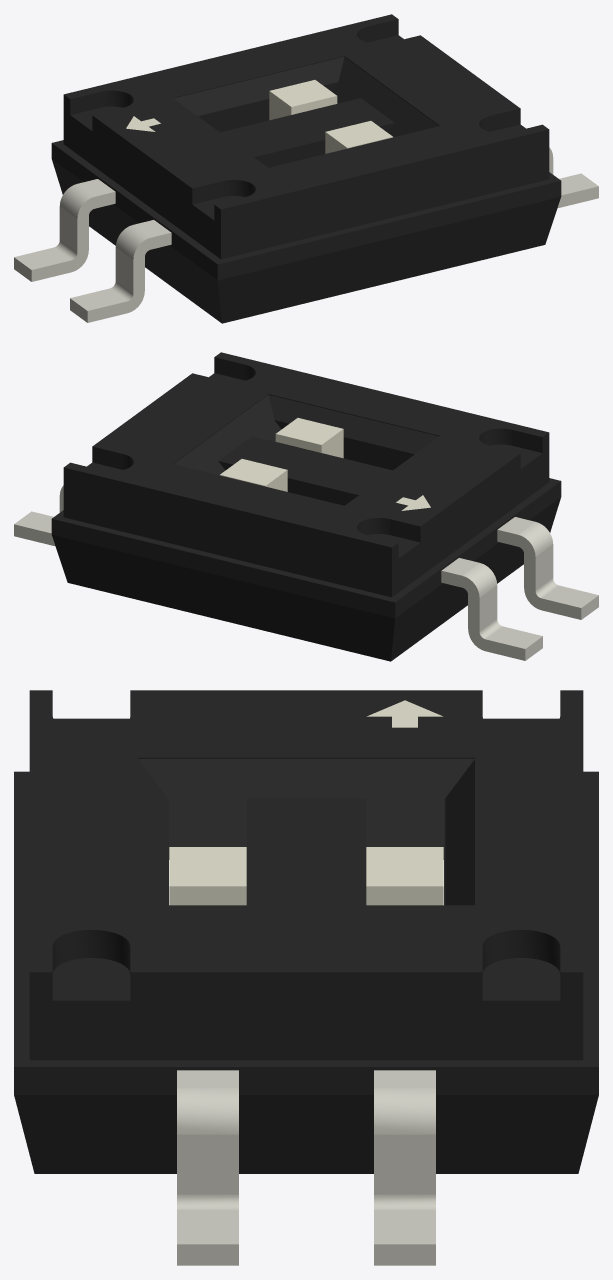
File: kc-sw_dip_spstx02_slide_omron_a6h-2101_w6.15mm_p1.27mm.glb
The picture shows the model from 3 angles, top to bottom: view 1: azimuth 30°, elevation 25°; view 2: azimuth 150°, elevation 25°; view 3: azimuth 270°, elevation 25°; orthographic projection. The views are drawn at different scales.
Visible parts, largest first — view 1: 0_0_0_0, 0.6666666666666666_0.6666666666666666_0.5833333333333334_0.8, 0.75_0.75_0.6666666666666666_0; view 2: 0_0_0_0, 0.6666666666666666_0.6666666666666666_0.5833333333333334_0.8, 0.75_0.75_0.6666666666666666_0; view 3: 0_0_0_0, 0.6666666666666666_0.6666666666666666_0.5833333333333334_0.8, 0.75_0.75_0.6666666666666666_0.
Boxes of the visible parts, x1,y1,x2,y2 form: 0_0_0_0: (51, 14, 561, 323); 0.6666666666666666_0.6666666666666666_0.5833333333333334_0.8: (14, 147, 598, 322); 0.75_0.75_0.6666666666666666_0: (126, 80, 392, 153); 0_0_0_0: (51, 352, 561, 661); 0.6666666666666666_0.6666666666666666_0.5833333333333334_0.8: (14, 485, 598, 660); 0.75_0.75_0.6666666666666666_0: (220, 418, 430, 510); 0_0_0_0: (14, 690, 598, 1173); 0.6666666666666666_0.6666666666666666_0.5833333333333334_0.8: (177, 1070, 435, 1265); 0.75_0.75_0.6666666666666666_0: (169, 700, 443, 905).
Bounding box in the file's own units: 0.67 × 0.1525 × 0.377.
